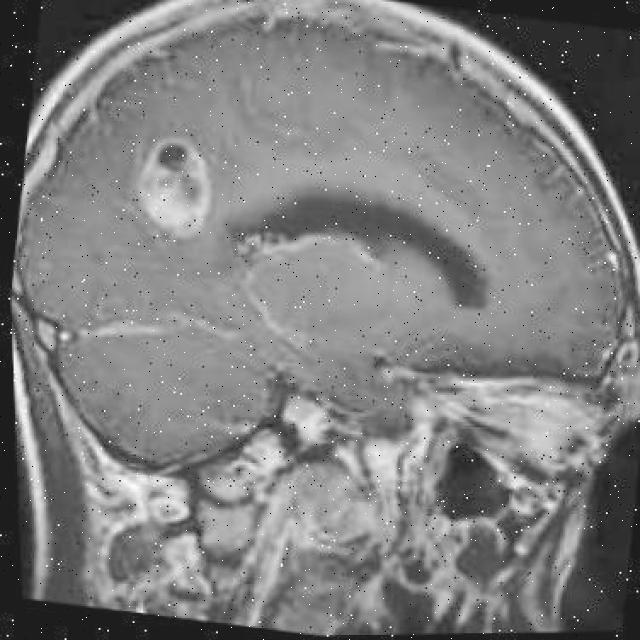EMCI: (150, 77, 226, 199)
